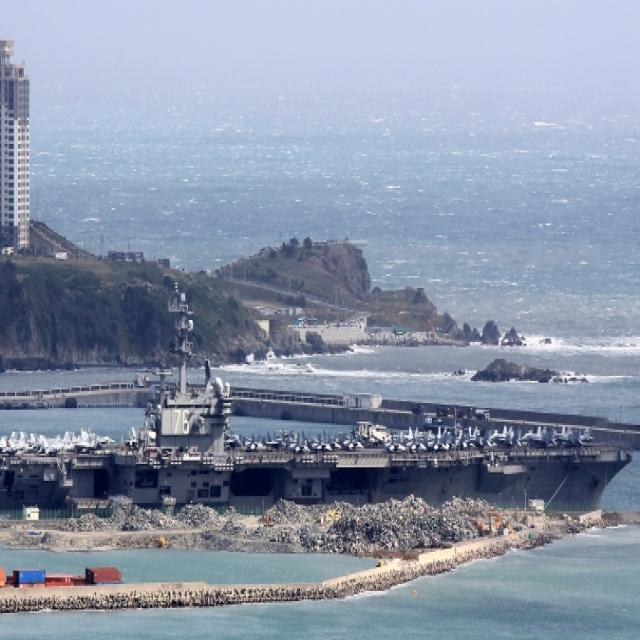Portanaves: (1, 277, 639, 526)
